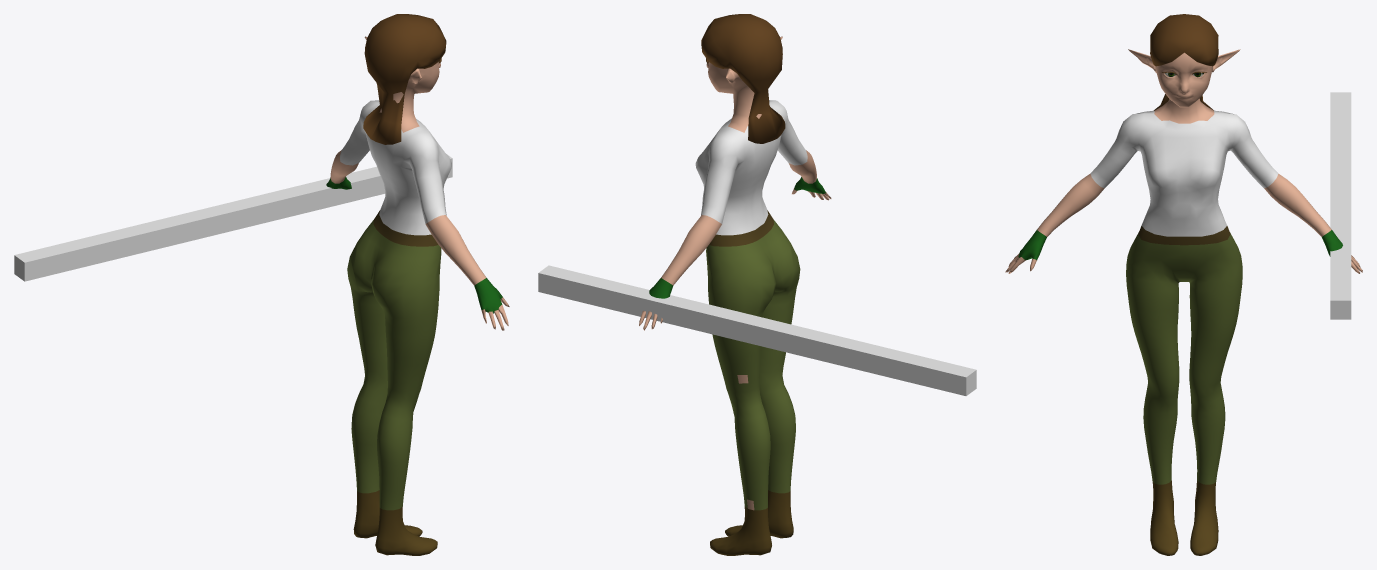
The model's file is settler_elf.glb.
The picture shows the model from 3 angles, left to right: view 1: azimuth 30°, elevation 25°; view 2: azimuth 150°, elevation 25°; view 3: azimuth 270°, elevation 25°; orthographic projection.
Parts seen in each view (by area): view 1: body_LP_Plane.008, Cube, Sphere.002_Sphere.001; view 2: body_LP_Plane.008, Cube, Sphere.002_Sphere.001; view 3: body_LP_Plane.008, Cube, Sphere.002_Sphere.001.
Boxes of the visible parts, bbox=[...] form: body_LP_Plane.008: bbox=[326, 36, 509, 555]; Cube: bbox=[14, 154, 452, 281]; Sphere.002_Sphere.001: bbox=[363, 14, 446, 144]; body_LP_Plane.008: bbox=[639, 36, 831, 555]; Cube: bbox=[538, 265, 976, 395]; Sphere.002_Sphere.001: bbox=[701, 14, 785, 143]; body_LP_Plane.008: bbox=[1005, 49, 1362, 555]; Cube: bbox=[1330, 92, 1351, 319]; Sphere.002_Sphere.001: bbox=[1150, 14, 1218, 110].
Size of the model in its own units: 6 by 7.08 by 4.35.
8 materials, 2 textured.
